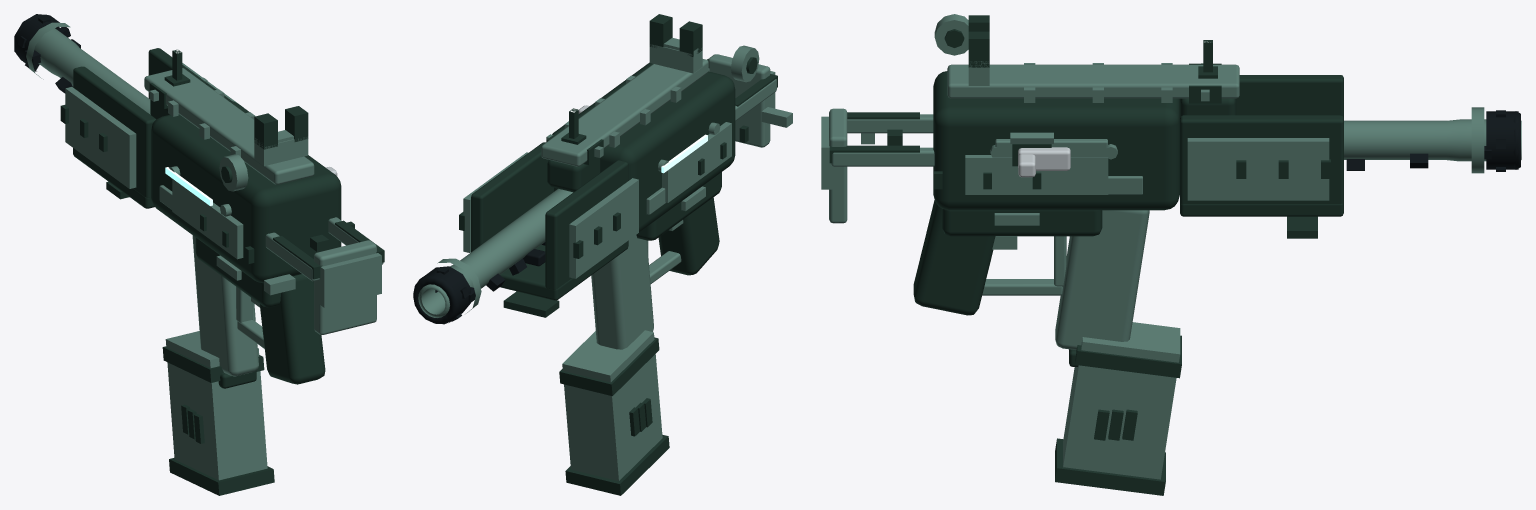
The model's file is weapon-9.glb.
The picture shows the model from 3 angles, left to right: view 1: azimuth 30°, elevation 25°; view 2: azimuth 150°, elevation 25°; view 3: azimuth 270°, elevation 25°; orthographic projection. The views are drawn at different scales.
Visible parts, largest first — view 1: body-dark, body-light, feed-light, feed-dark, barrel-assembly-light, barrel-assembly-cavity, body-glow; view 2: body-dark, body-light, feed-light, barrel-assembly-light, feed-dark, barrel-assembly-cavity, body-glow; view 3: body-dark, body-light, feed-light, barrel-assembly-light, feed-dark, barrel-assembly-cavity, bolt-trim.
Boxes of the visible parts, x1=… form: body-dark: x1=60, y1=48, x2=384, y2=384; body-light: x1=65, y1=63, x2=383, y2=348; feed-light: x1=165, y1=235, x2=267, y2=480; feed-dark: x1=162, y1=346, x2=274, y2=495; barrel-assembly-light: x1=26, y1=22, x2=150, y2=114; barrel-assembly-cavity: x1=14, y1=14, x2=80, y2=93; body-glow: x1=165, y1=49, x2=212, y2=205; body-dark: x1=459, y1=14, x2=777, y2=317; body-light: x1=463, y1=37, x2=792, y2=283; feed-light: x1=562, y1=235, x2=662, y2=480; barrel-assembly-light: x1=418, y1=188, x2=572, y2=317; feed-dark: x1=559, y1=337, x2=669, y2=495; barrel-assembly-cavity: x1=413, y1=242, x2=545, y2=324; body-glow: x1=570, y1=109, x2=707, y2=173; body-dark: x1=829, y1=15, x2=1343, y2=315; body-light: x1=821, y1=14, x2=1329, y2=295; feed-light: x1=1055, y1=210, x2=1180, y2=479; barrel-assembly-light: x1=1344, y1=107, x2=1521, y2=173; feed-dark: x1=1055, y1=335, x2=1181, y2=495; barrel-assembly-cavity: x1=1346, y1=110, x2=1520, y2=171; bolt-trim: x1=1018, y1=147, x2=1070, y2=177.
Size of the model in its own units: 0.2565 by 0.711 by 0.994.
